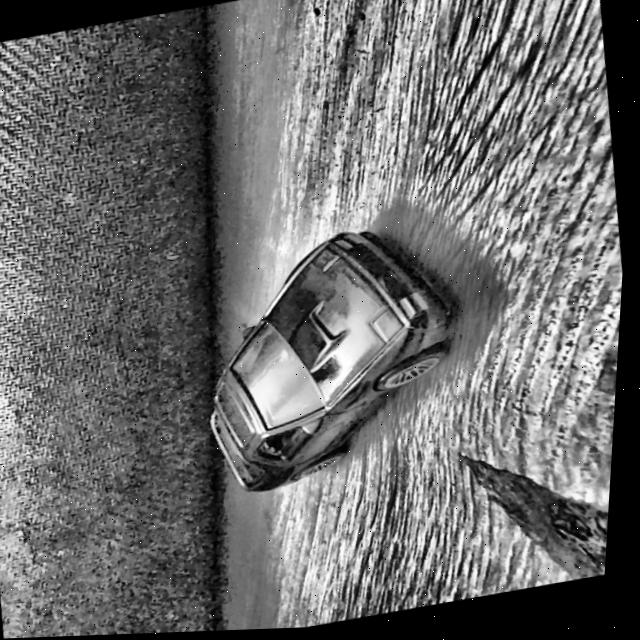car: (187, 216, 484, 503)
